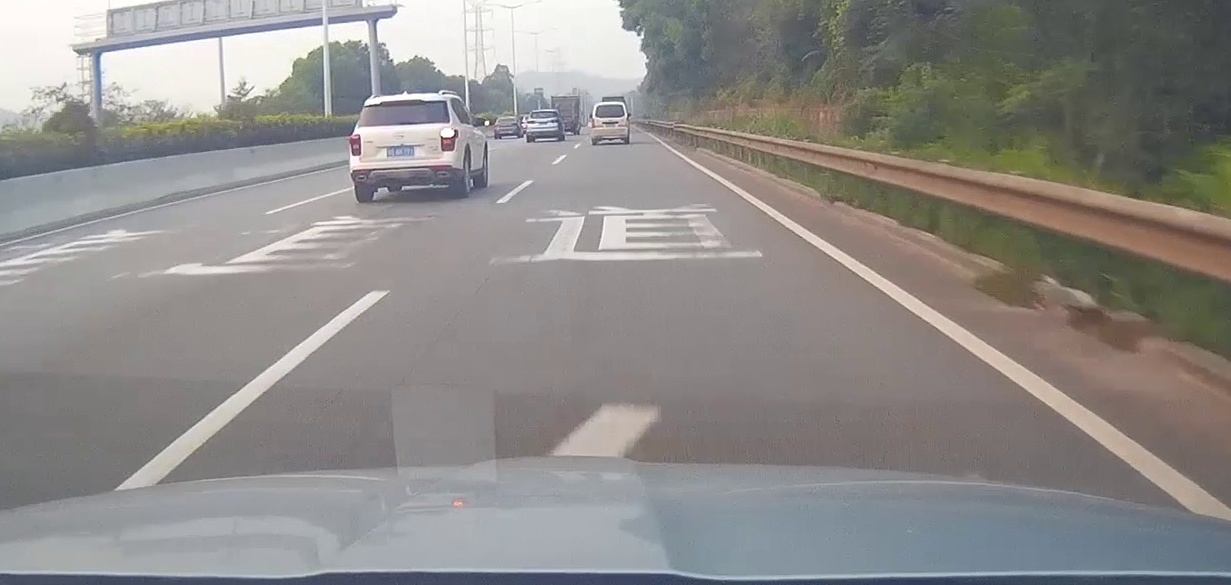L_light: (349, 134, 361, 156), (592, 119, 595, 127), (527, 121, 534, 123)
R_light: (441, 129, 458, 152), (626, 118, 628, 125), (551, 120, 557, 122)
T_light: (394, 102, 409, 105), (607, 105, 612, 107), (540, 112, 546, 113)
day-no: (592, 102, 629, 145), (527, 110, 559, 142)
day-right: (349, 95, 459, 203)
